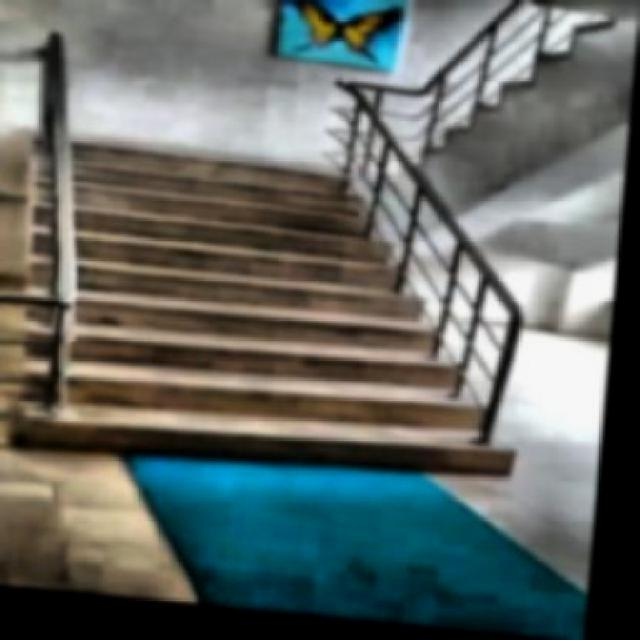stair: (12, 146, 534, 497)
